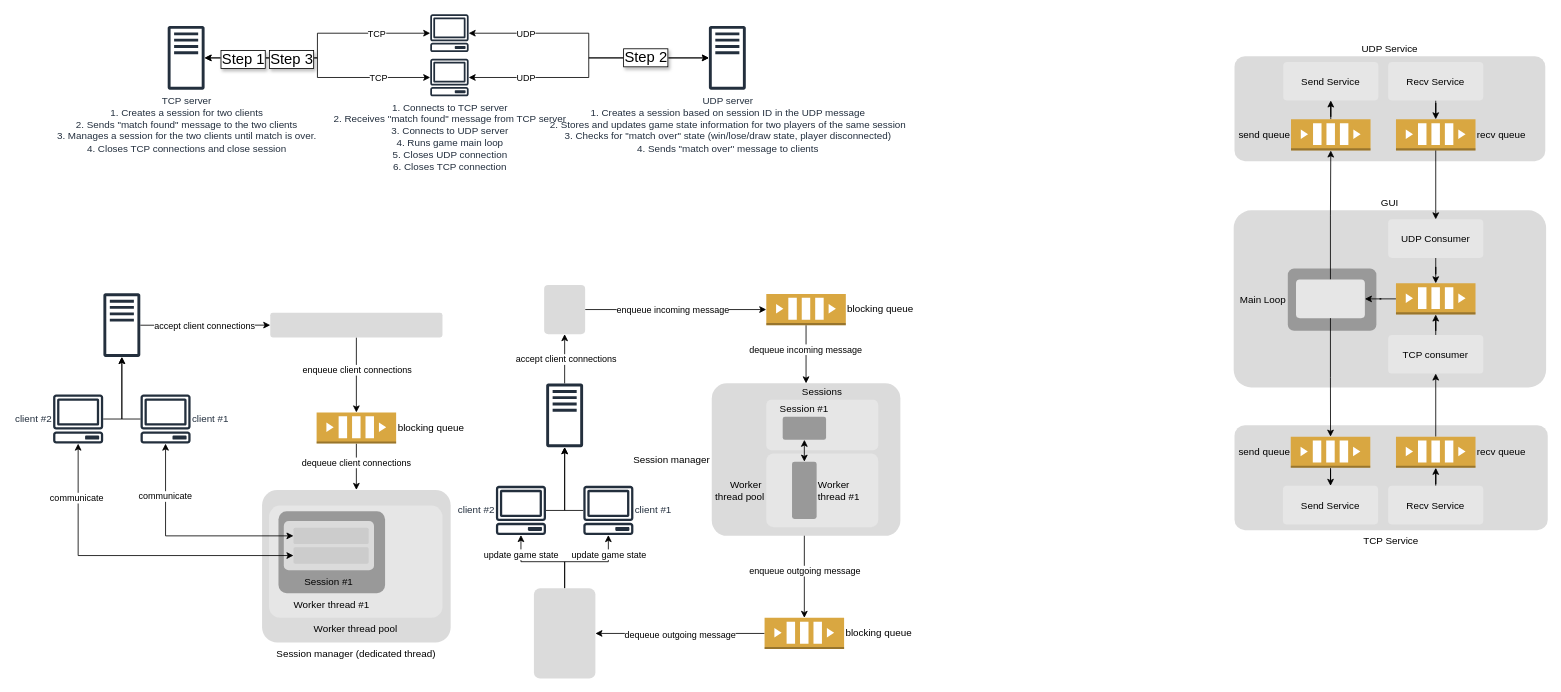
Image size: 1561x692. Some labels were removed from this diagram. Here are the shapes that lost their labels. From the top down, the centre of each, then its label:
point (564, 309): Receiver UDP socket
point (1330, 298): Update Routine
point (1435, 298): Event Queue
point (356, 324): TCP socket (blocking main thread)
point (330, 535): client #1 thread
point (330, 555): client #2 thread
point (564, 633): Sender UDP socket (broadcasts update messages to clients)
